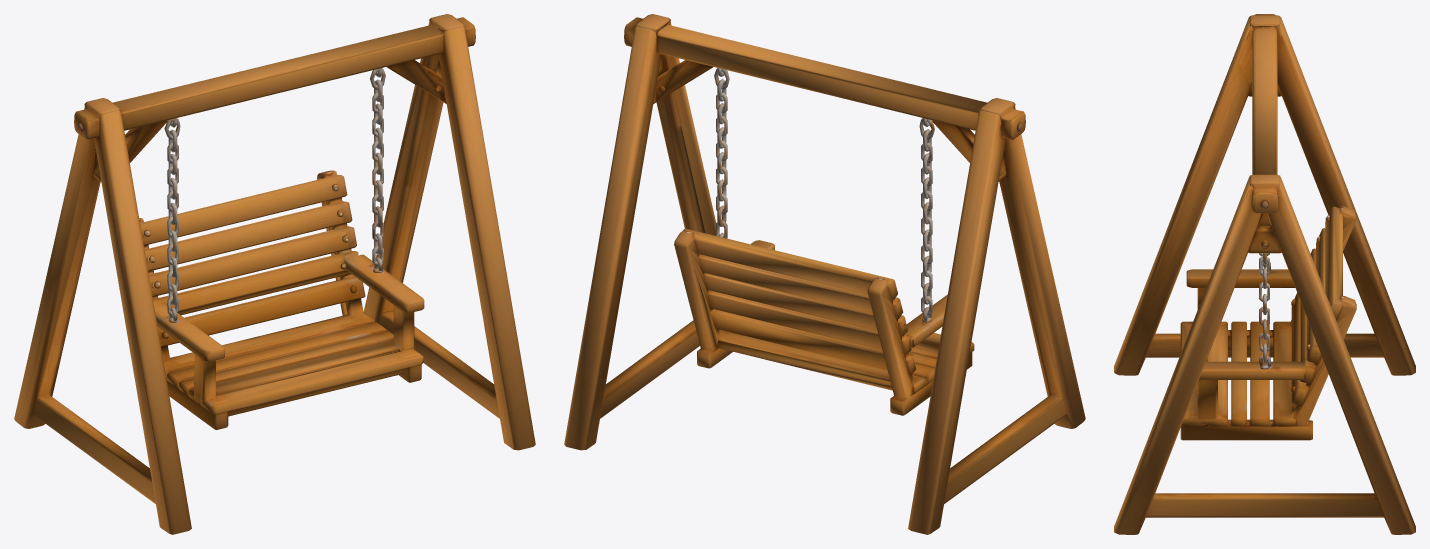
File: a_wooden_swing_set_8a665dfc_v2.glb
The picture shows the model from 3 angles, left to right: view 1: azimuth 30°, elevation 25°; view 2: azimuth 150°, elevation 25°; view 3: azimuth 270°, elevation 25°; orthographic projection. The views are drawn at different scales.
Visible parts, largest first — view 1: material; view 2: material; view 3: material.
Boxes of the visible parts, bbox=[...] form: material: bbox=[14, 14, 535, 534]; material: bbox=[564, 14, 1085, 534]; material: bbox=[1114, 14, 1415, 534].
Bounding box in the file's own units: 1.9 × 1.72 × 1.33.
1 material, 1 textured.
